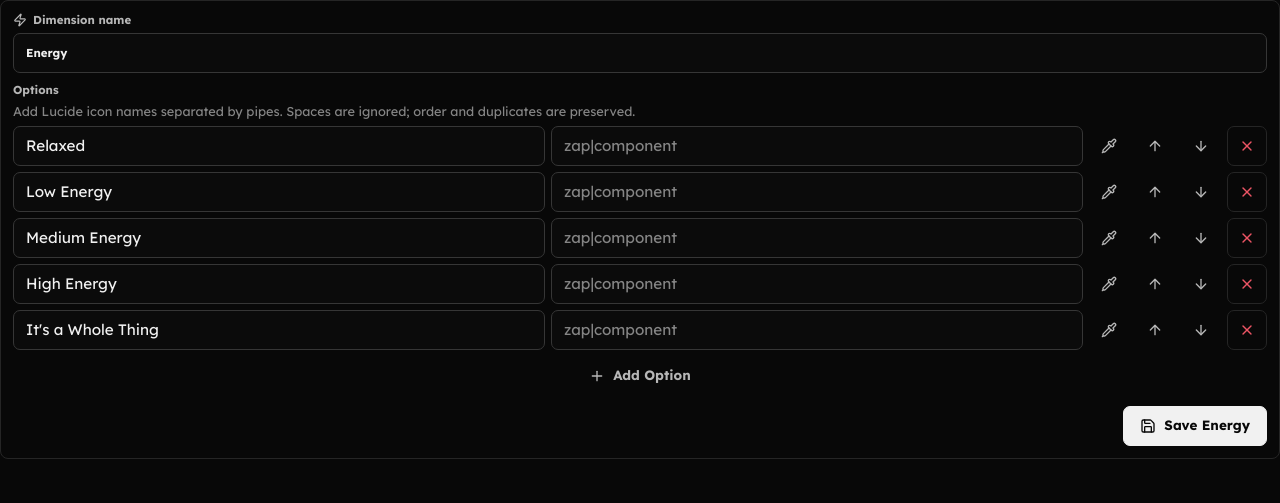
Test: Quantifier settings › shows an inline error and does not commit unknown Lucide option icons
Type "not-real" into the field named "Energy option 1 icons" at {"x": 817, "y": 146}, box [551,126,1083,166]
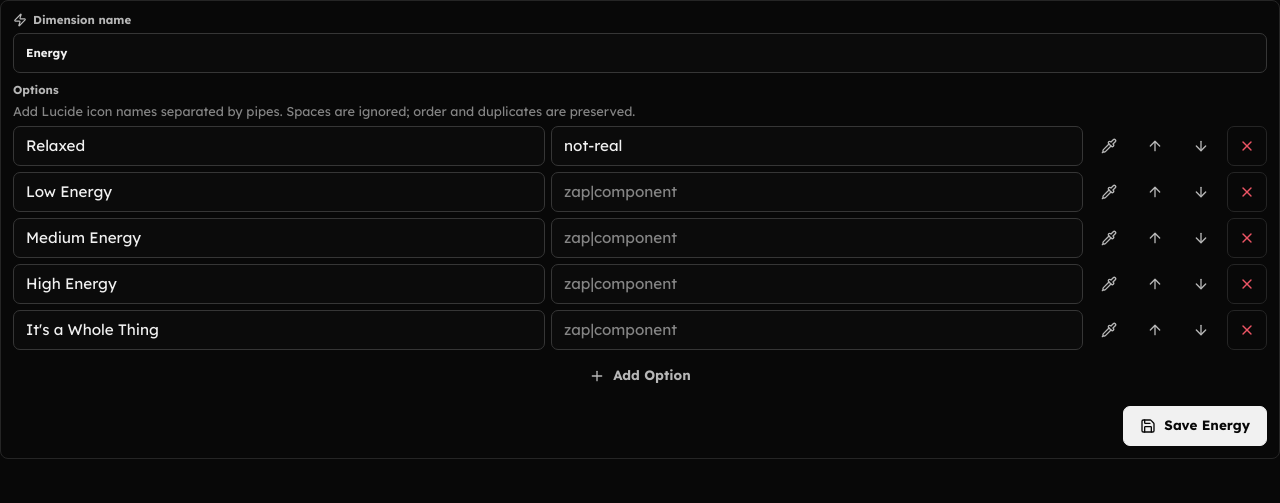
Click the button "Save Energy" at {"x": 1195, "y": 426}, box [1123,406,1267,446]
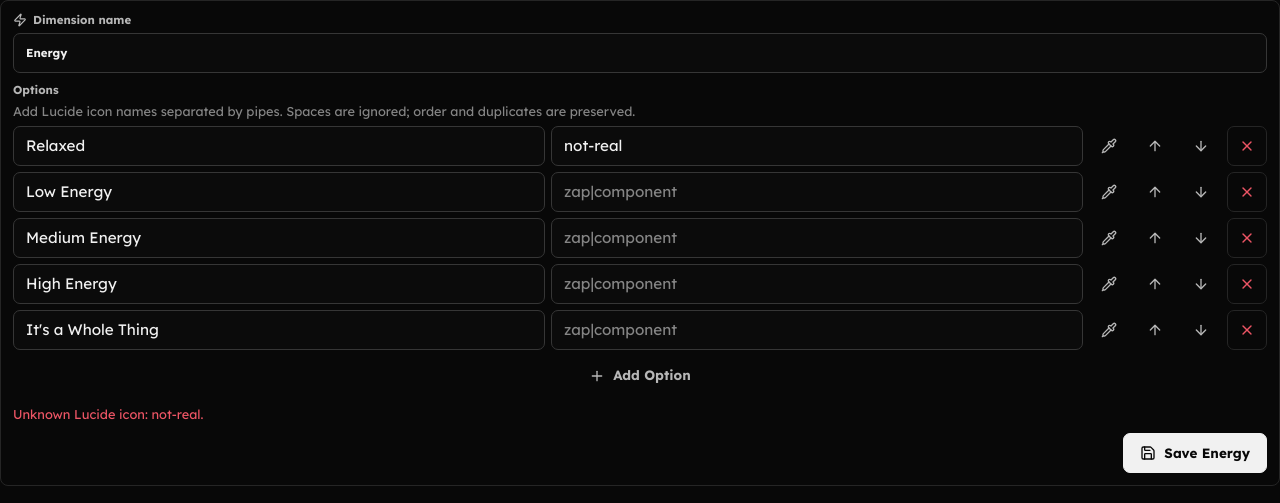
Expected: the text "Unknown Lucide icon: not-real." is shown, [13,406,204,422]
